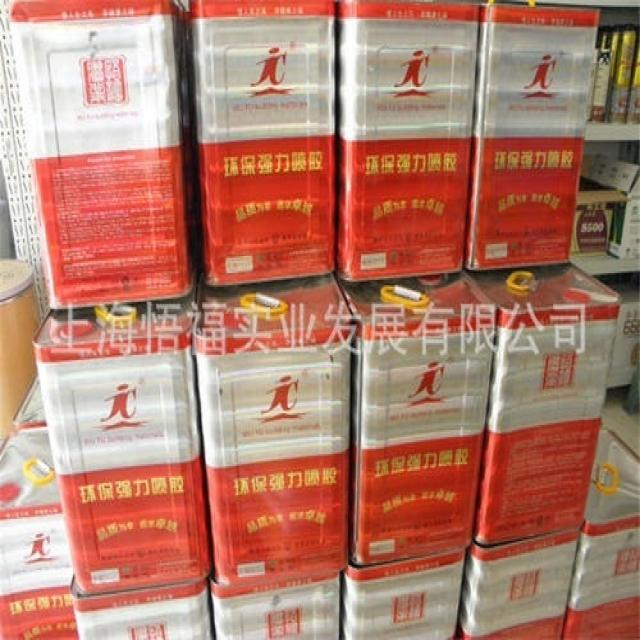box: (10, 0, 200, 311), (32, 288, 212, 594), (194, 273, 353, 586), (337, 271, 496, 567), (462, 262, 622, 545), (188, 0, 335, 288), (336, 0, 480, 282), (465, 3, 601, 271), (0, 427, 78, 638), (562, 426, 639, 638), (458, 524, 581, 638), (343, 551, 465, 638), (69, 576, 212, 638), (209, 571, 339, 638), (11, 373, 47, 427)
